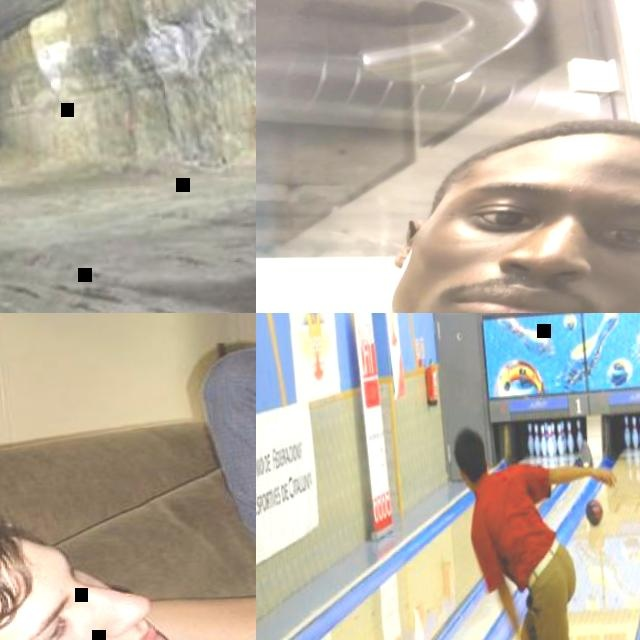NO-Hardhat: (439, 104, 640, 206), (451, 425, 485, 464)
NO-Mask: (390, 227, 640, 313), (59, 582, 180, 640)
NO-Safety Vest: (472, 465, 559, 584)
Person: (256, 96, 640, 313), (0, 329, 256, 640), (449, 410, 640, 640)
